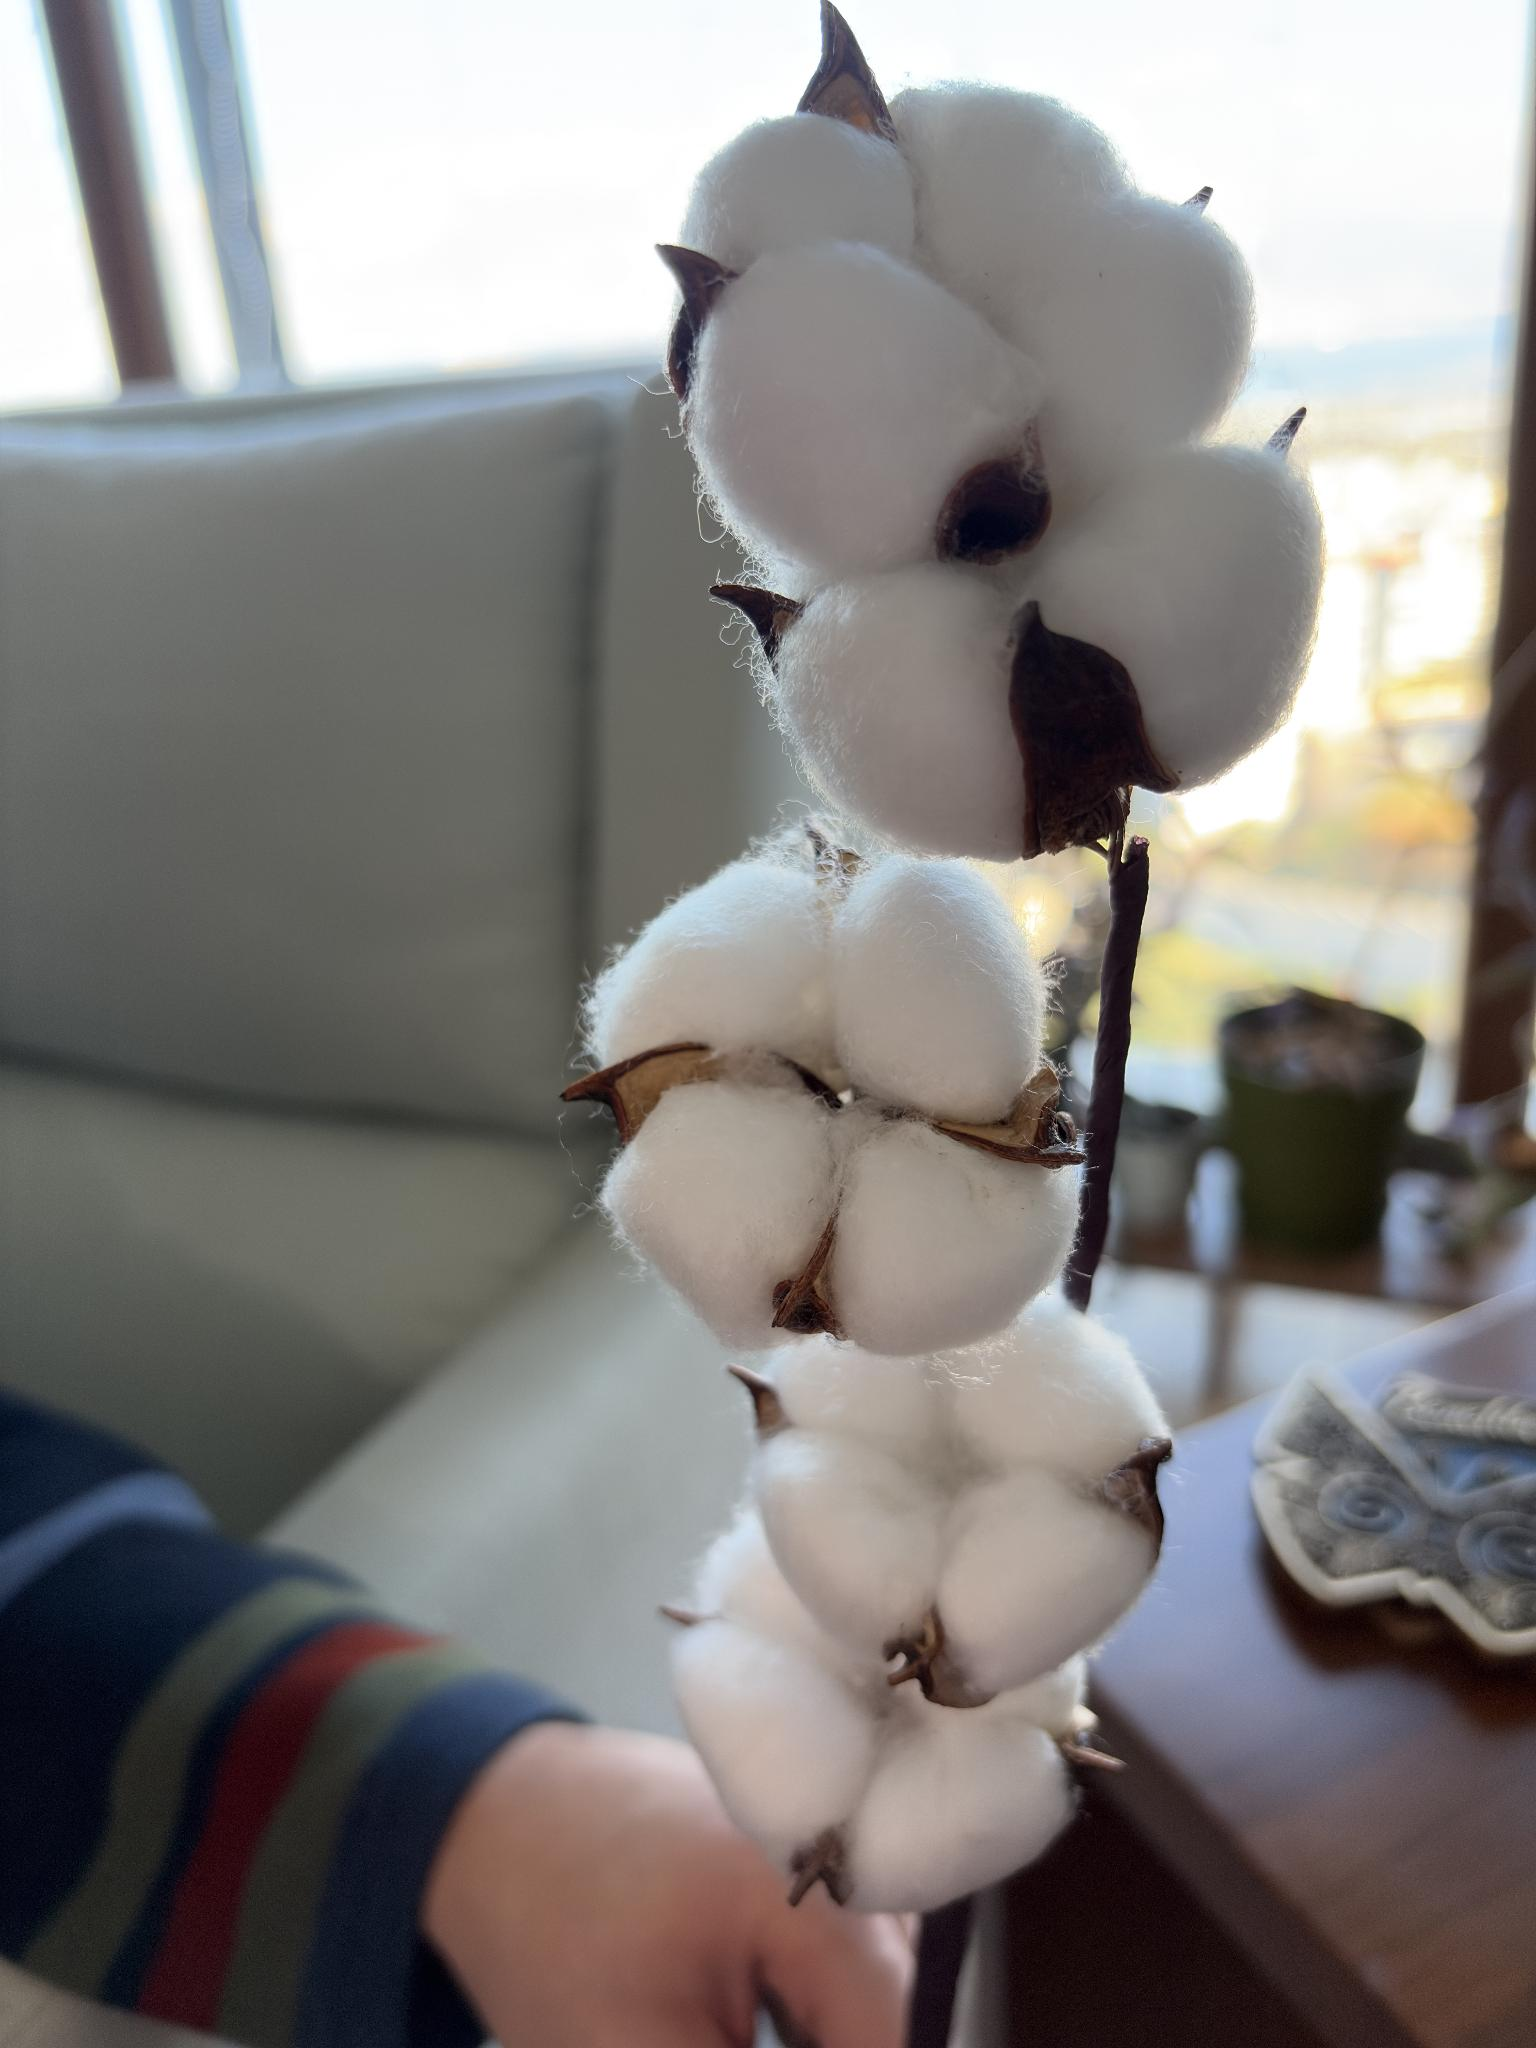cotton_boll: (684, 242, 1044, 582), (1025, 445, 1323, 787), (770, 564, 1023, 860), (1015, 194, 1254, 495), (602, 1080, 836, 1348), (828, 1119, 1078, 1356), (891, 82, 1129, 327), (831, 856, 1044, 1126), (584, 853, 836, 1079), (936, 1466, 1154, 1692), (673, 1619, 873, 1864), (852, 1701, 1070, 1913), (753, 1427, 947, 1650), (952, 1300, 1167, 1484), (678, 113, 913, 273), (689, 1506, 836, 1656), (770, 1337, 942, 1447), (991, 1655, 1087, 1742)
cotton_boll-cluster: (655, 69, 1349, 874), (576, 810, 1102, 1367), (660, 1463, 1110, 1930), (739, 1272, 1173, 1717)
